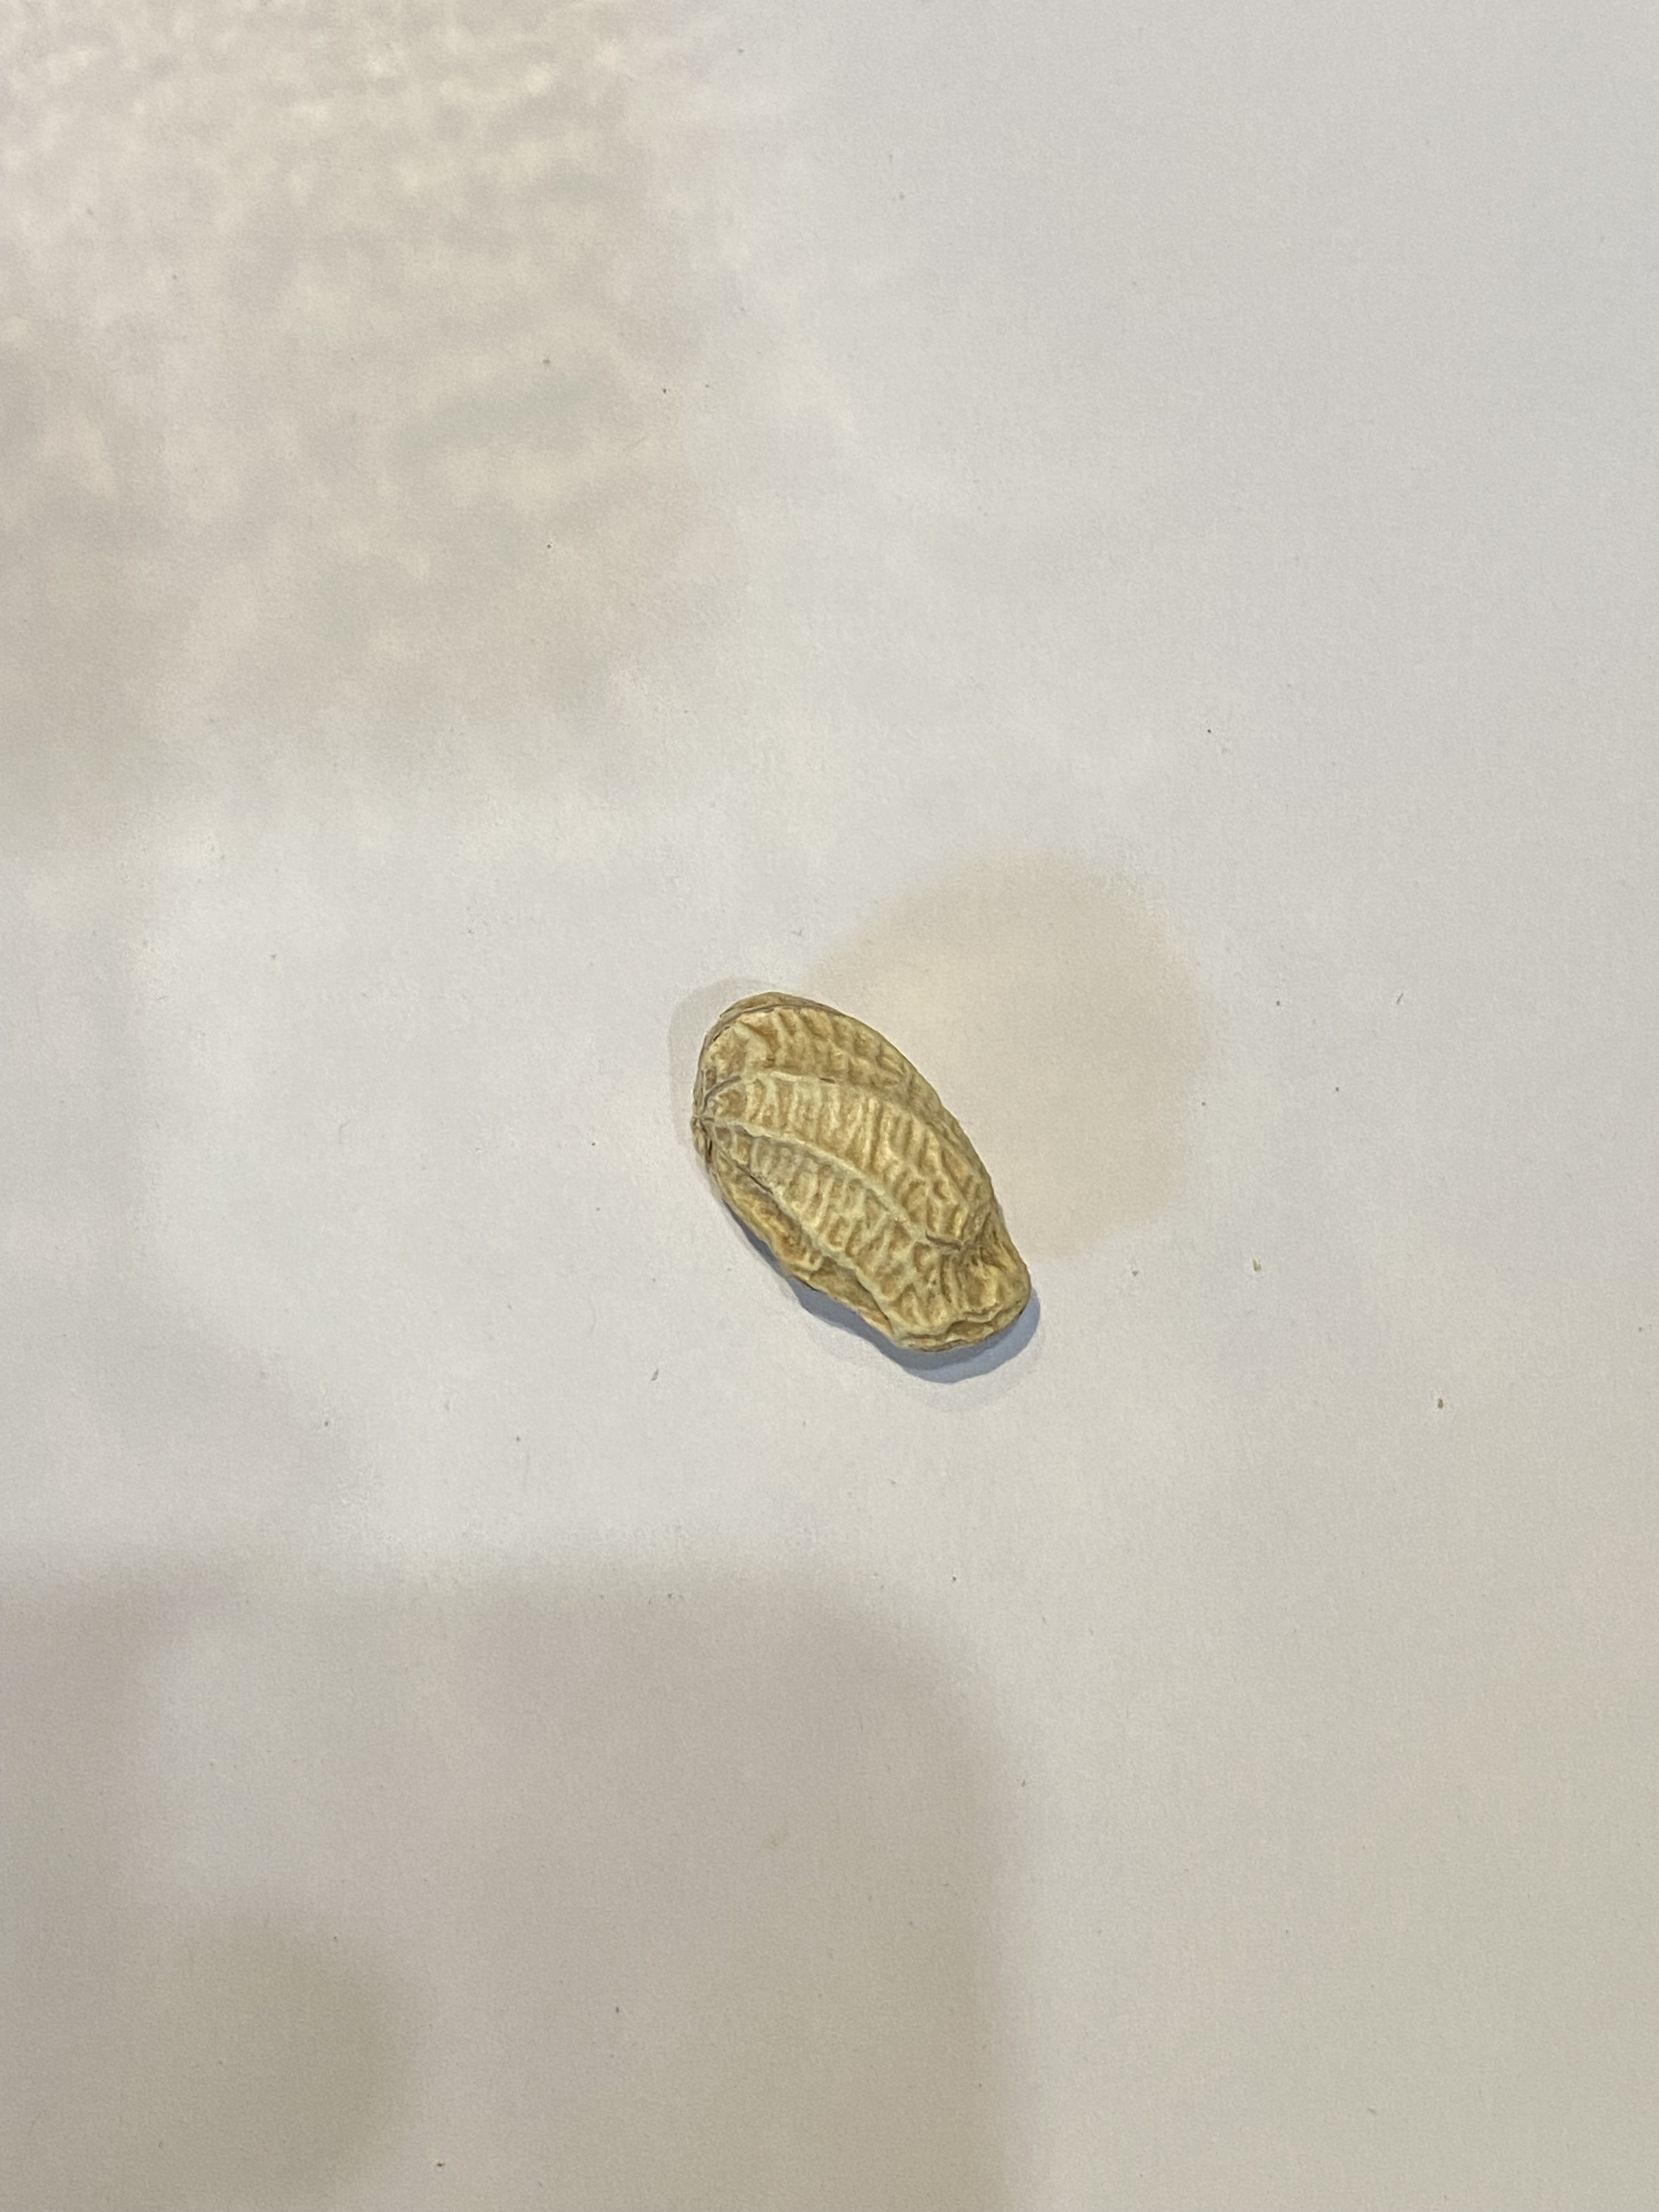kacang1: (669, 975, 1068, 1386)
